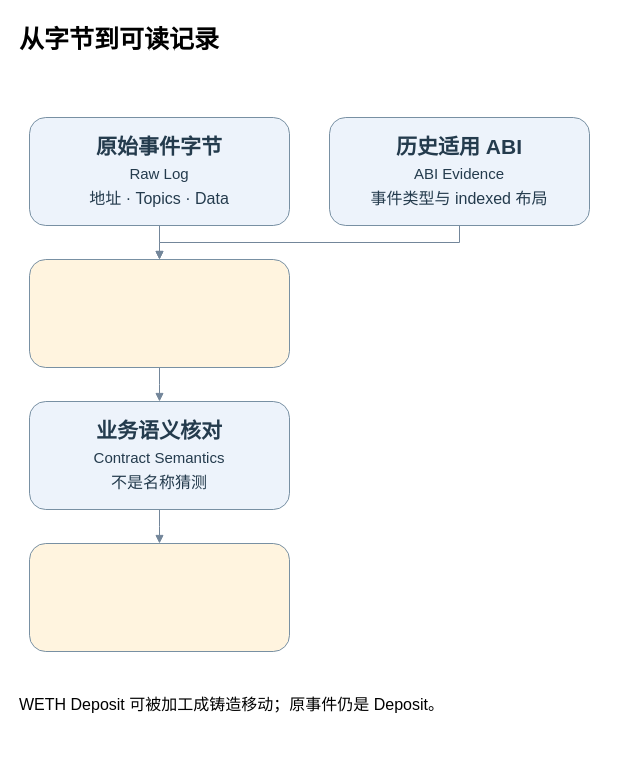
This 618x775 diagram has some shape labels left out. Each missing label, with the centre of its shape:
"参数解码 Decoded Event From · To · Raw Amount" goes at (x=159, y=313).
"标准化资产记录 Curated Movement 来源与模型单独说明" goes at (x=159, y=597).
